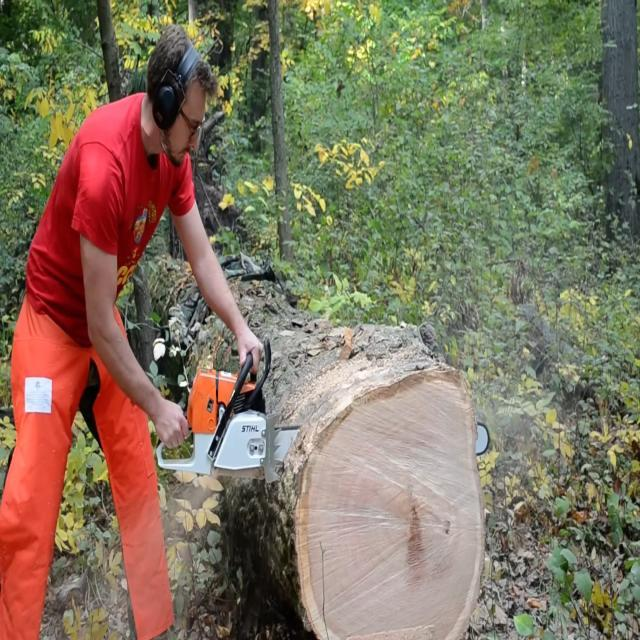Chainsaw: (142, 335, 498, 504)
